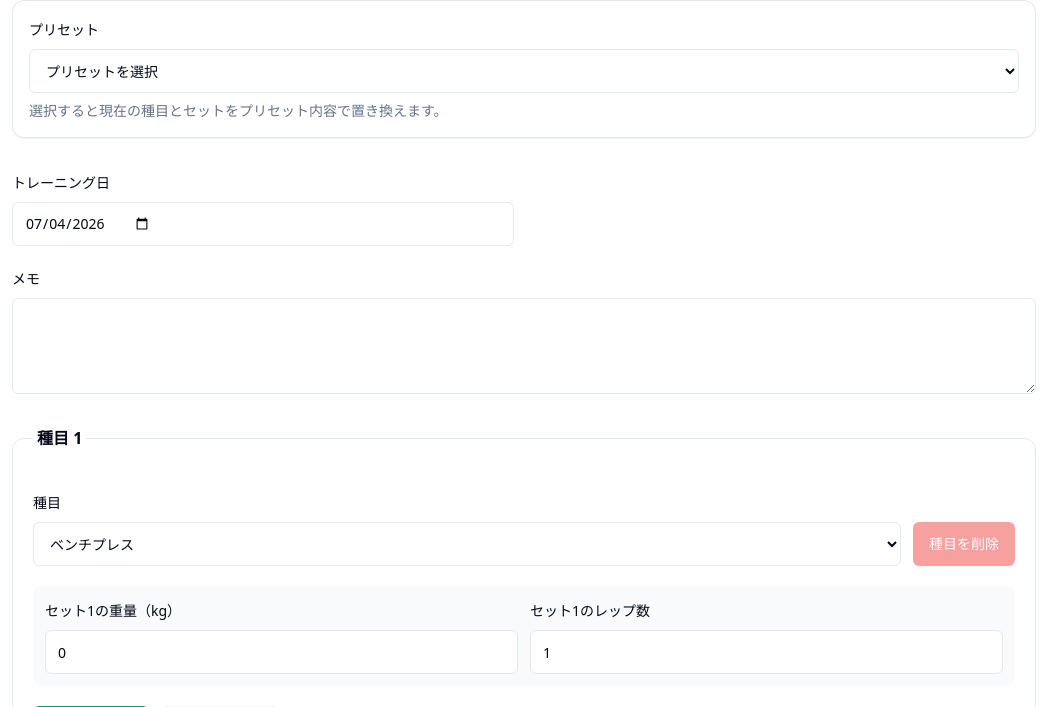
WorkoutForm › replaces unsaved input after confirmation
The width and height of the screenshot is (1048, 707).
Replace the text in the number field labelled "セット1のレップ数" with "12": {"x": 766, "y": 652} [530, 630, 1003, 674]
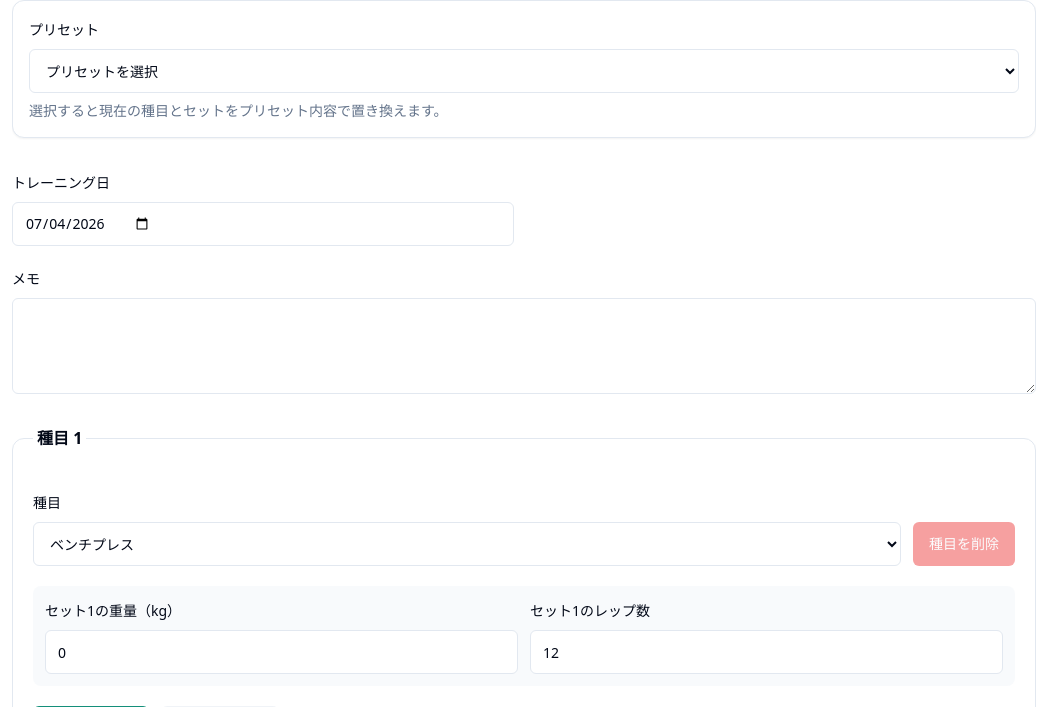
Select "全身" in the dropdown labelled "プリセット": {"x": 524, "y": 71} [29, 49, 1019, 93]
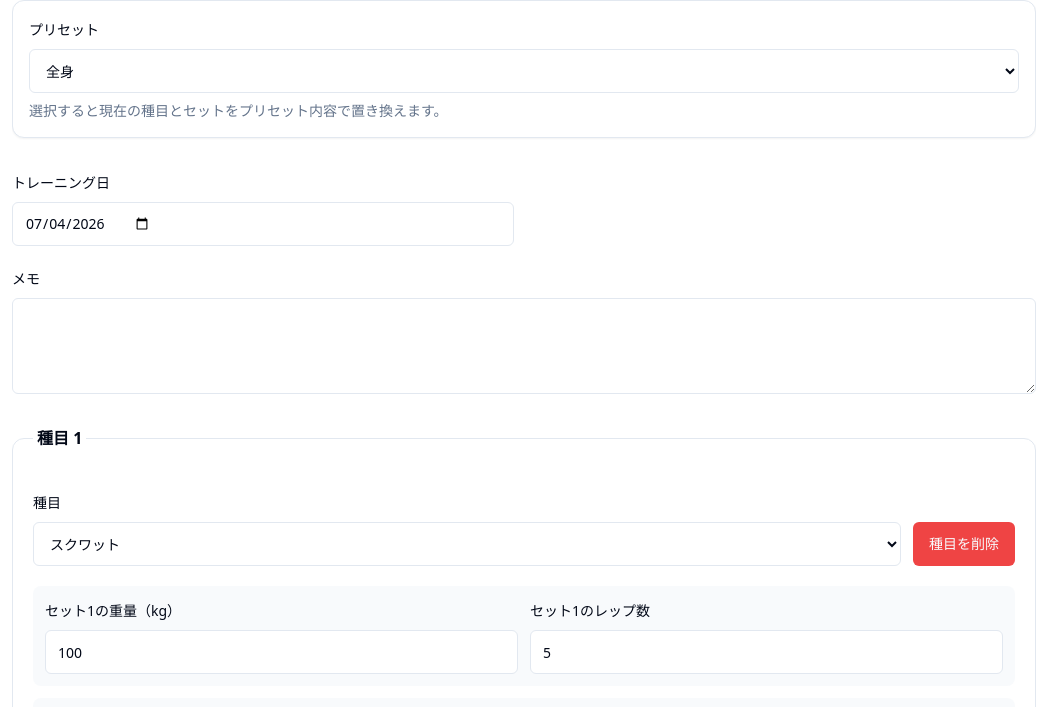
expect the number field labelled "セット1のレップ数" holds "5": met, box [530, 630, 1003, 674]
